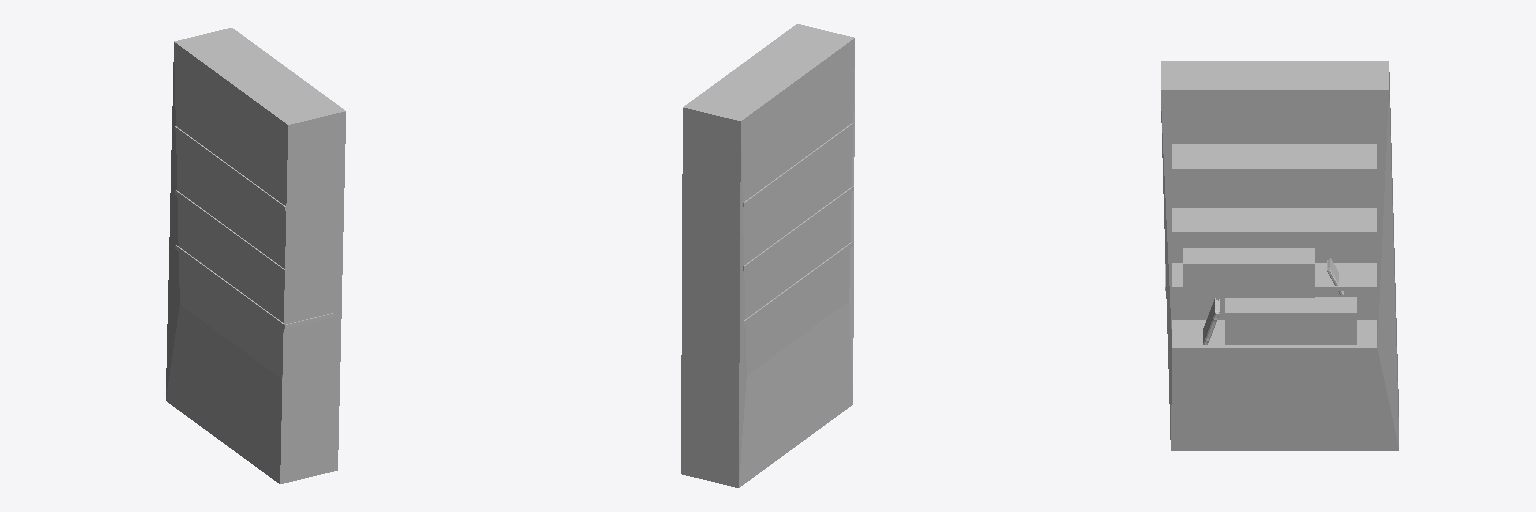
The model's file is BookShelf.obj.
3 renders of one model, left to right at view 1: azimuth 30°, elevation 25°; view 2: azimuth 150°, elevation 25°; view 3: azimuth 270°, elevation 25°, orthographic.
Parts seen in each view (by area): view 1: Cube.036_Cube.057; view 2: Cube.036_Cube.057; view 3: Cube.036_Cube.057.
Part boxes in pixels (x1,y1,x2,y2): Cube.036_Cube.057: (166, 28, 345, 483); Cube.036_Cube.057: (681, 24, 854, 487); Cube.036_Cube.057: (1161, 61, 1398, 450).
Size of the model in its own units: 0.4457 by 2.53 by 1.51.